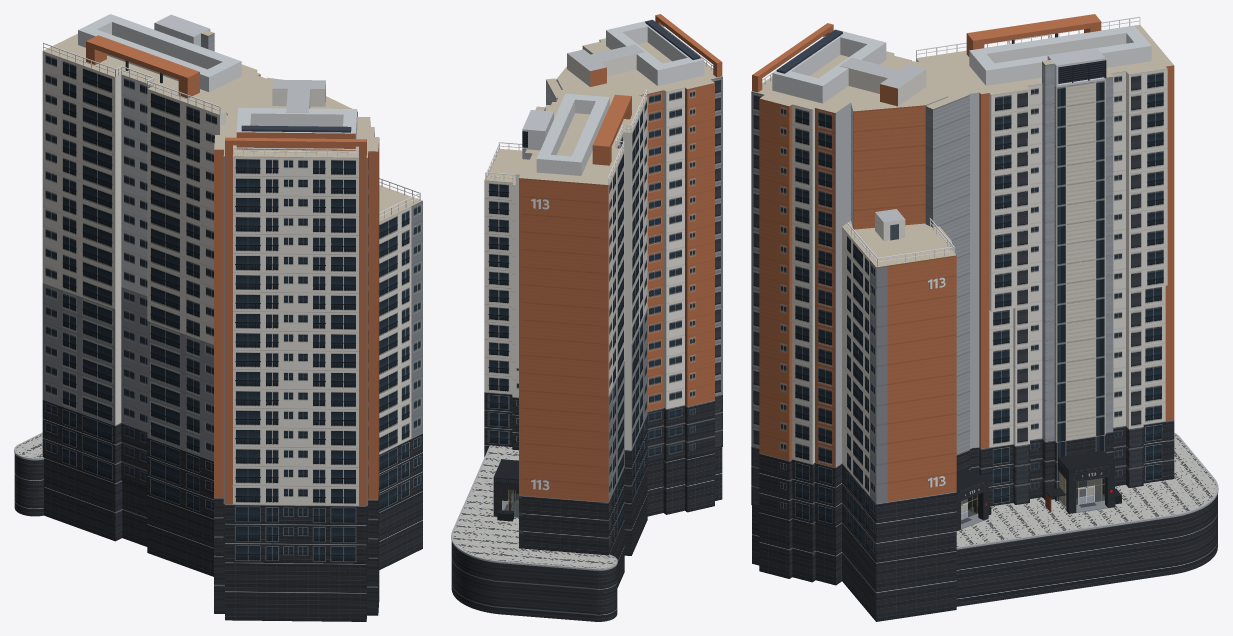
Rendered from place_금파힐113.glb.
3 renders of one model, left to right at view 1: azimuth 30°, elevation 25°; view 2: azimuth 150°, elevation 25°; view 3: azimuth 270°, elevation 25°, orthographic. The views are drawn at different scales.
Parts seen in each view (by area): view 1: WingA_NW_21F, WingC_SSW_21F, WingB_ENE_15F, Basement_B1B2_14, Basement_B1B2_1, Basement_B1B2_2, Basement_B1B2_12, Walkway_1F_RetainingBase, Basement_B1B2_0, KumhoParkHills_113, Basement_B1B2_16, Basement_B1B2_15; view 2: WingA_NW_21F, WingC_SSW_21F, WingB_ENE_15F, Walkway_1F_RetainingBase, Walkway_1F_Deck, KumhoParkHills_113, Basement_B1B2_15, Basement_B1B2_14, Basement_B1B2_2, Basement_B1B2_17, Walkway_1F_Curb_Rounded, Basement_B1B2_1; view 3: WingA_NW_21F, WingC_SSW_21F, WingB_ENE_15F, KumhoParkHills_113, Walkway_1F_RetainingBase, Walkway_1F_Deck, Basement_B1B2_12, Basement_B1B2_14, Basement_B1B2_16, Basement_B1B2_18, Walkway_1F_Curb_Rounded.
Part boxes in pixels (<box>): WingA_NW_21F: <box>42,14,272,518</box>; WingC_SSW_21F: <box>214,79,379,563</box>; WingB_ENE_15F: <box>379,178,422,511</box>; Basement_B1B2_14: <box>225,562,366,621</box>; Basement_B1B2_1: <box>44,458,122,541</box>; Basement_B1B2_2: <box>147,495,213,576</box>; Basement_B1B2_12: <box>379,491,422,569</box>; Walkway_1F_RetainingBase: <box>14,454,43,516</box>; Basement_B1B2_0: <box>122,481,147,546</box>; KumhoParkHills_113: <box>226,77,357,122</box>; Basement_B1B2_16: <box>367,544,379,615</box>; Basement_B1B2_15: <box>214,555,224,613</box>; WingA_NW_21F: <box>493,89,647,555</box>; WingC_SSW_21F: <box>567,14,722,463</box>; WingB_ENE_15F: <box>484,142,522,450</box>; Walkway_1F_RetainingBase: <box>451,541,617,621</box>; Walkway_1F_Deck: <box>451,445,617,570</box>; KumhoParkHills_113: <box>546,66,653,104</box>; Basement_B1B2_15: <box>685,453,714,512</box>; Basement_B1B2_14: <box>647,447,722,516</box>; Basement_B1B2_2: <box>624,467,647,555</box>; Basement_B1B2_17: <box>663,458,684,514</box>; Walkway_1F_Curb_Rounded: <box>451,445,617,570</box>; Basement_B1B2_1: <box>609,520,624,587</box>; WingA_NW_21F: <box>916,14,1174,513</box>; WingC_SSW_21F: <box>751,23,926,526</box>; WingB_ENE_15F: <box>842,209,956,562</box>; KumhoParkHills_113: <box>847,59,991,530</box>; Walkway_1F_RetainingBase: <box>956,494,1217,606</box>; Walkway_1F_Deck: <box>956,434,1218,549</box>; Basement_B1B2_12: <box>842,522,956,621</box>; Basement_B1B2_14: <box>752,505,841,585</box>; Basement_B1B2_16: <box>759,512,792,578</box>; Basement_B1B2_18: <box>792,518,815,582</box>; Walkway_1F_Curb_Rounded: <box>956,433,1218,549</box>.
Bounding box in the file's own units: 38.3 × 66.55 × 56.95.
180 materials, 112 textured.
